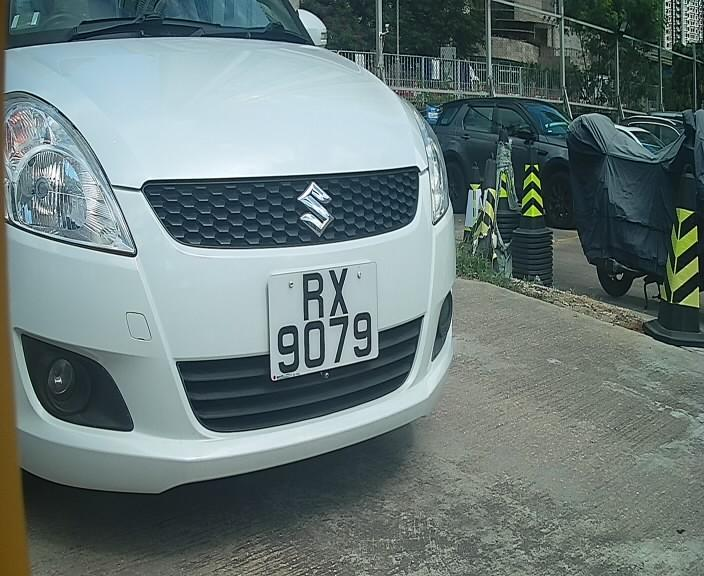License Plate: (258, 255, 384, 389)
